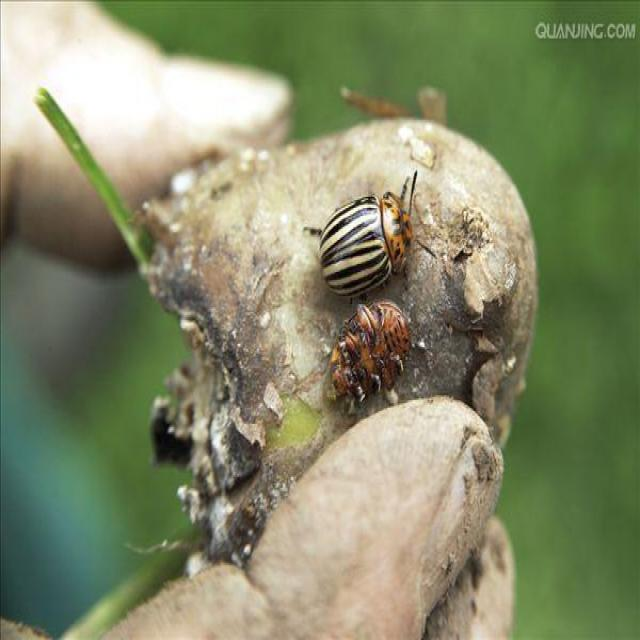ShuCaiHuaBanChong-Grown-: (304, 182, 427, 297)
